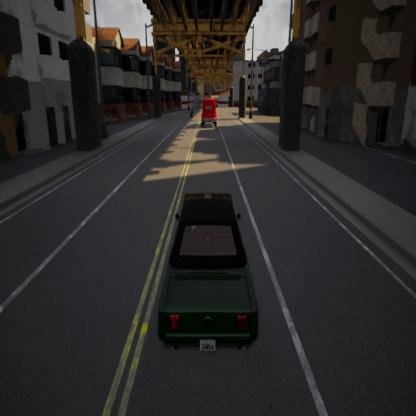Cars: (151, 187, 265, 365), (198, 93, 220, 130)
